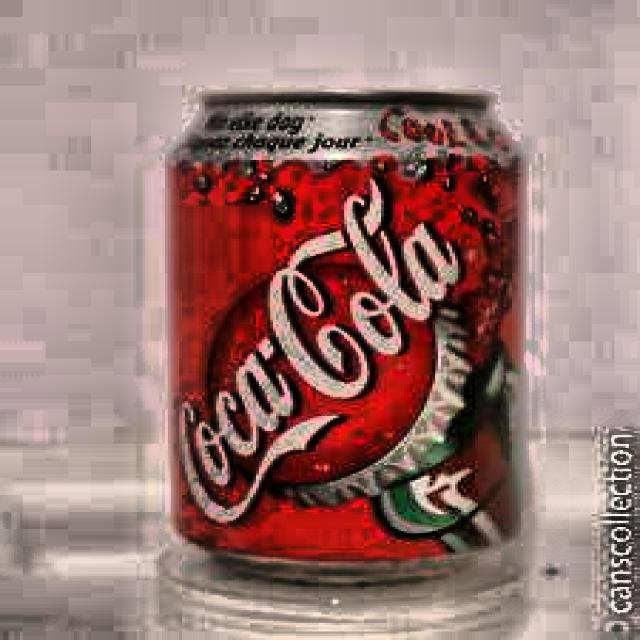Cans: (132, 74, 562, 592)
